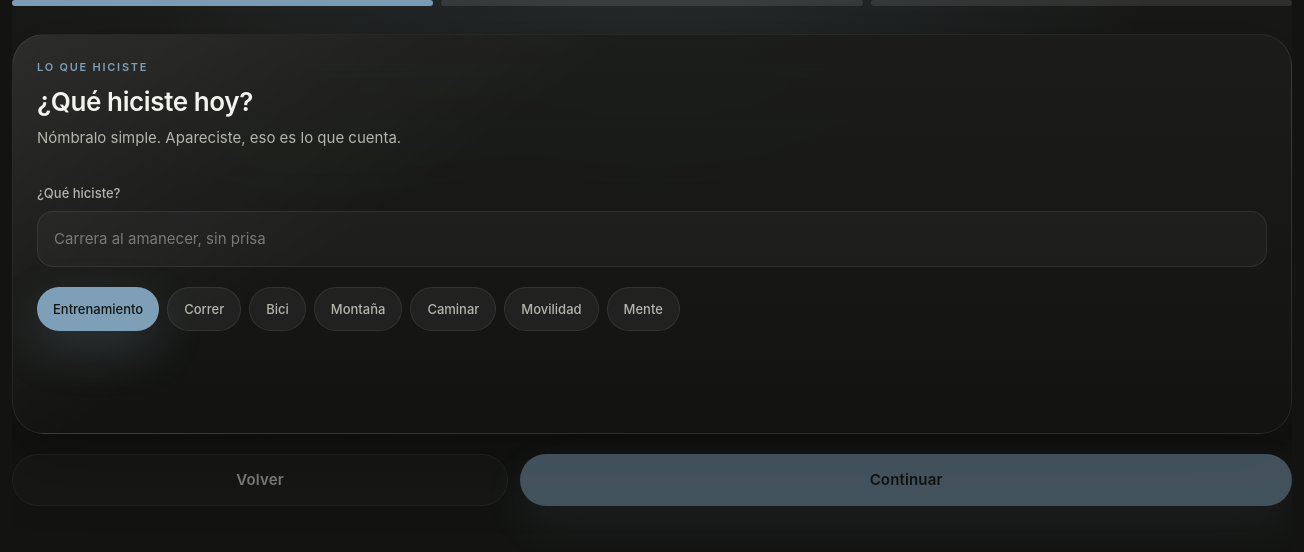
Scenario: CommitFlowClient › keeps the title (collected on step 0) serializable on the submit step
Type "Tren inferior" into the field labelled "¿Qué hiciste?" at (652, 239), box x1=37 y1=211 x2=1267 y2=267
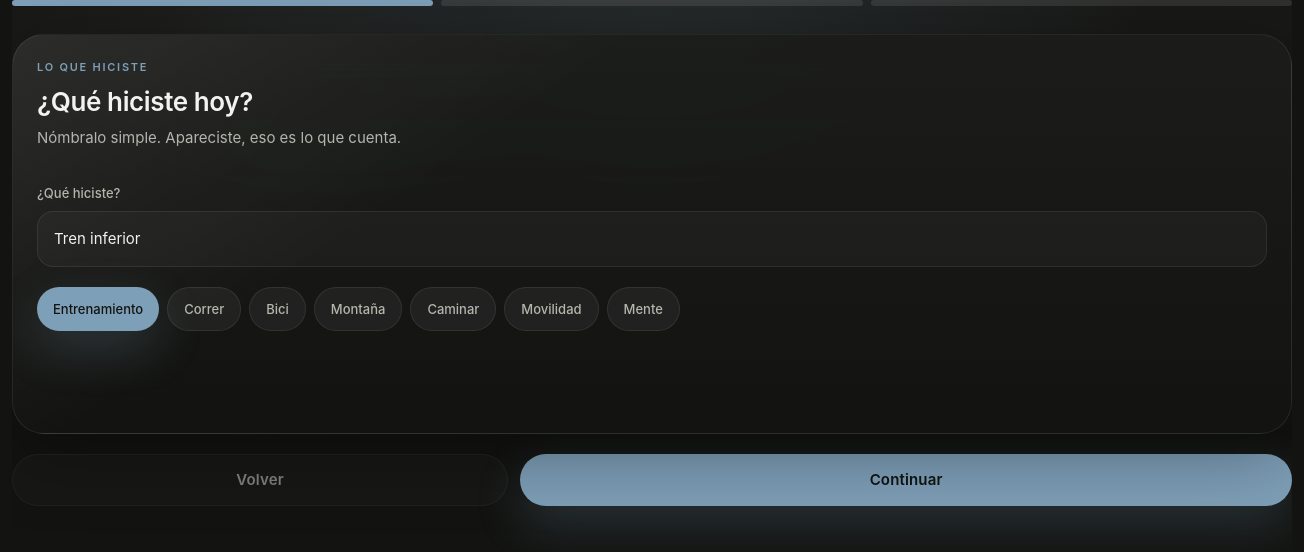
# Advance step 0 → 1 → 2 (the title input unmounts after step 0).
Click the button "Continuar" at (906, 480), box x1=520 y1=454 x2=1292 y2=506
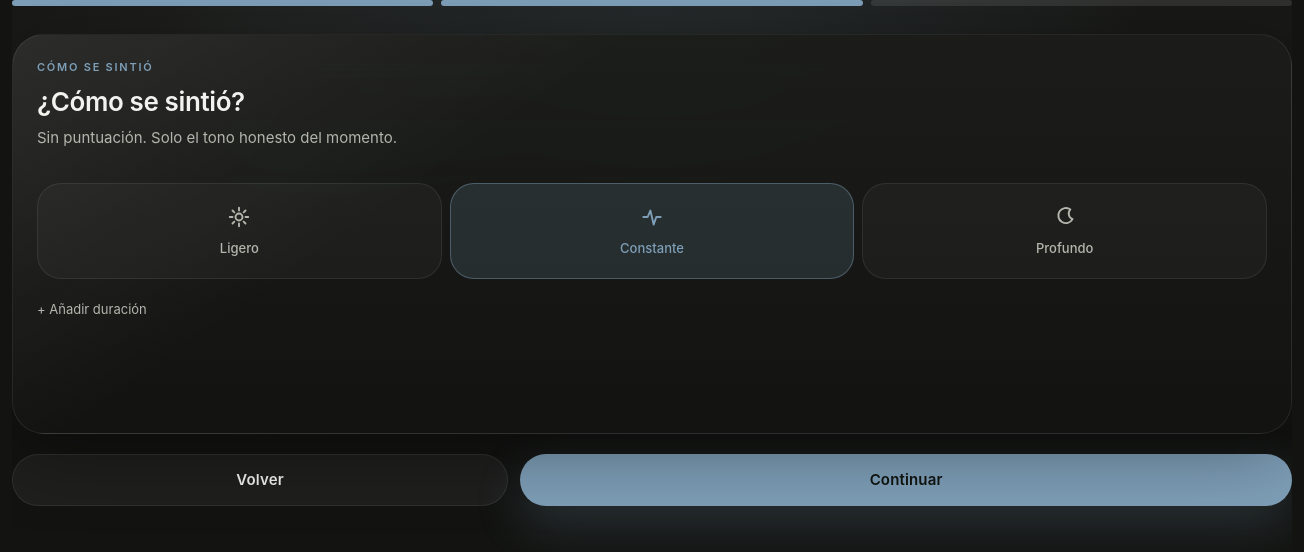
Click the button "Continuar" at (906, 480), box x1=520 y1=454 x2=1292 y2=506
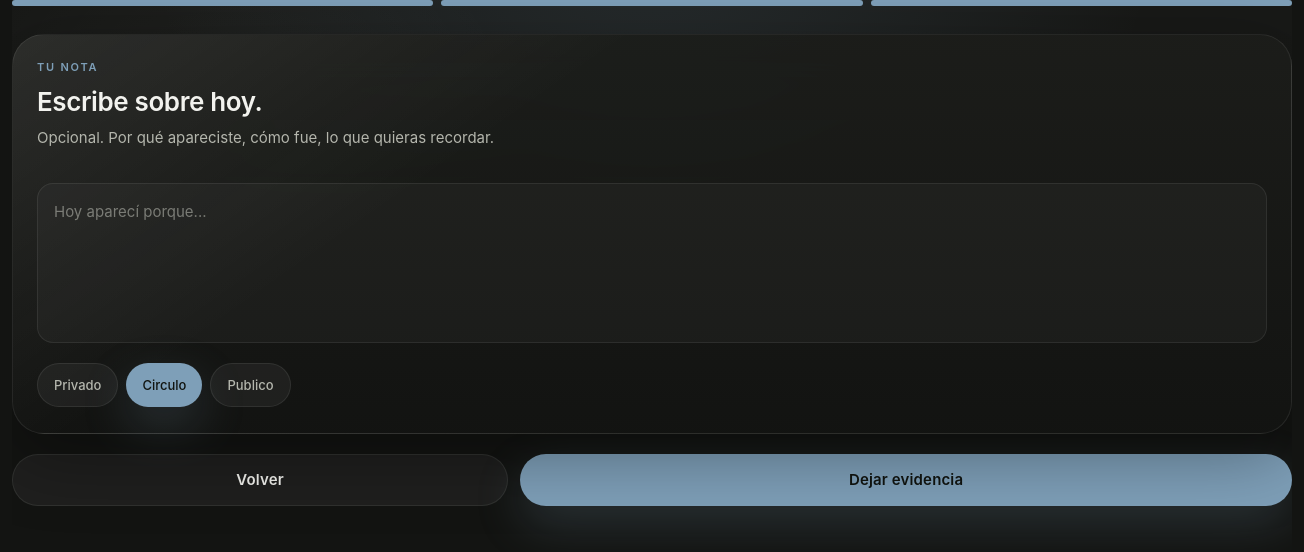
Now the button "Dejar evidencia" is shown, box x1=520 y1=454 x2=1292 y2=506
